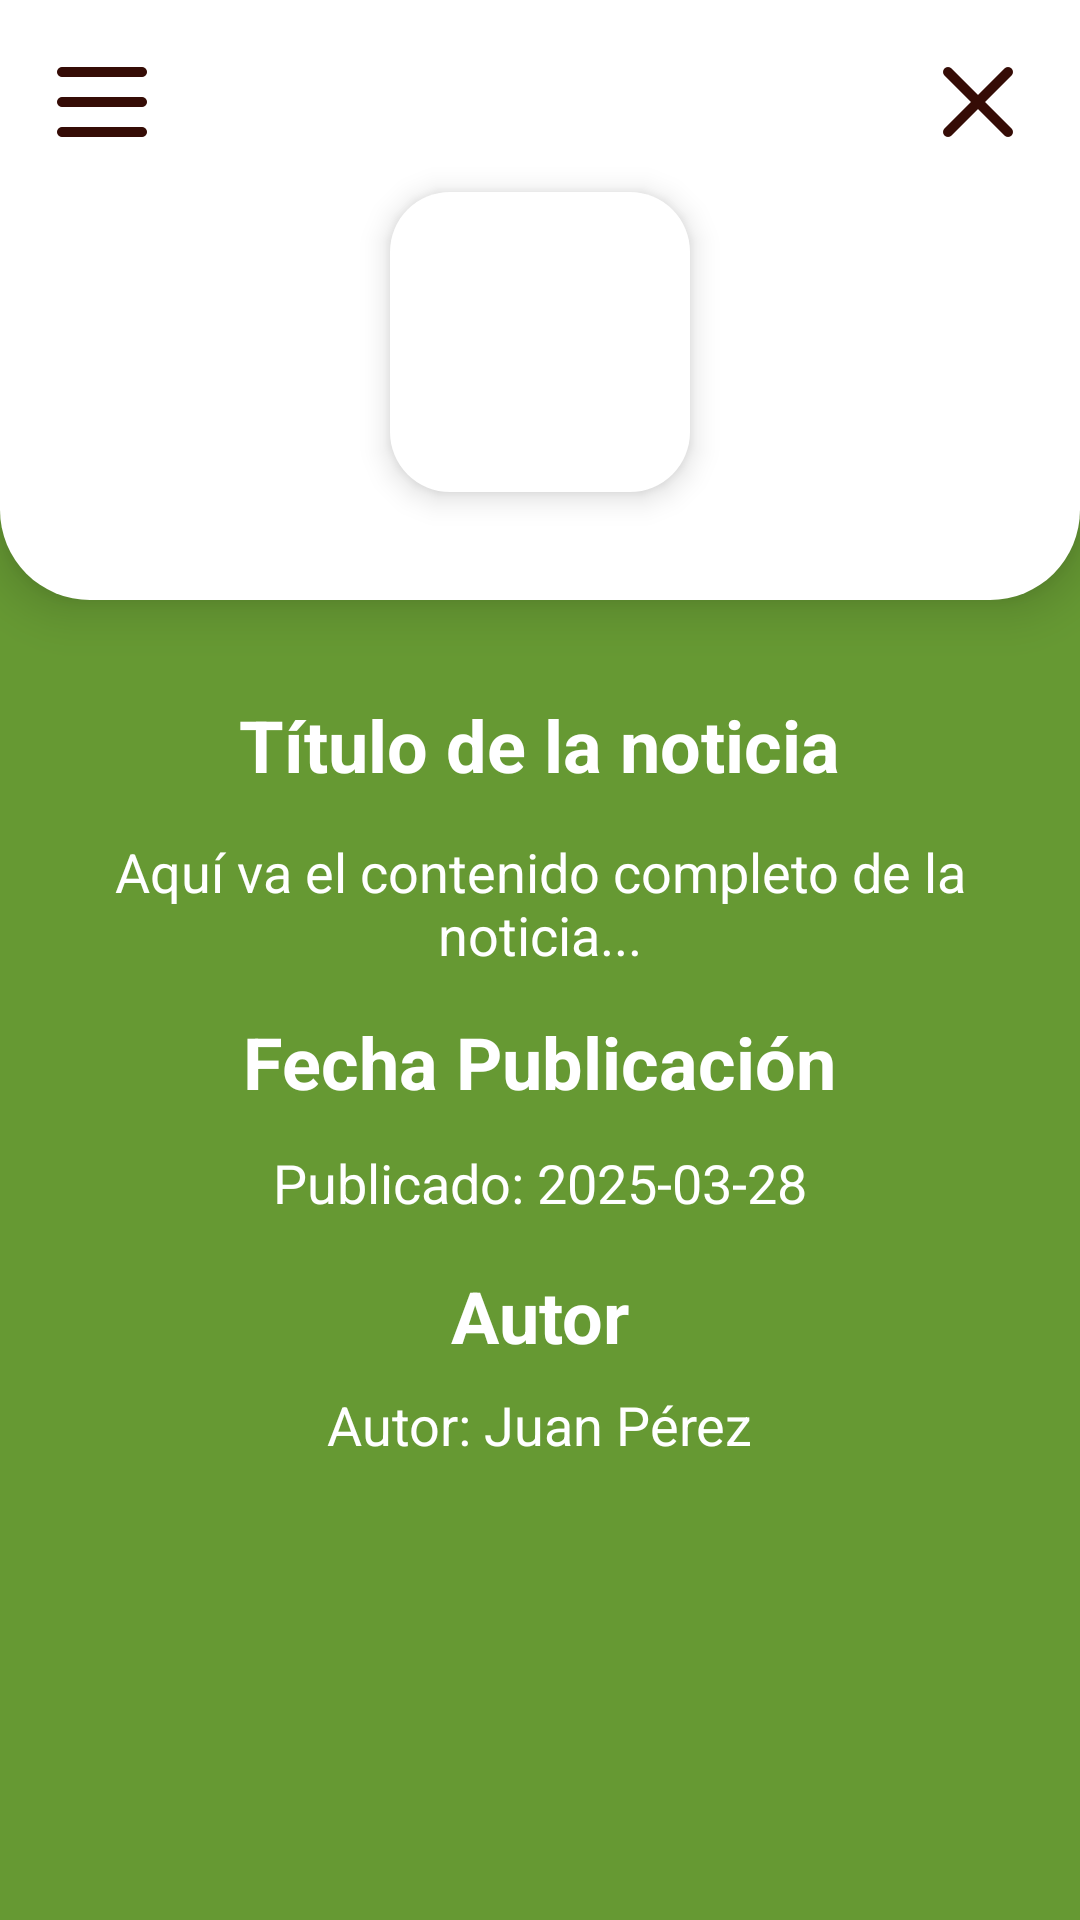

Icons on this 1080px×1920px Android screen, each with the point to tap as (x,y):
close: (978,102)
menu: (102,102)
